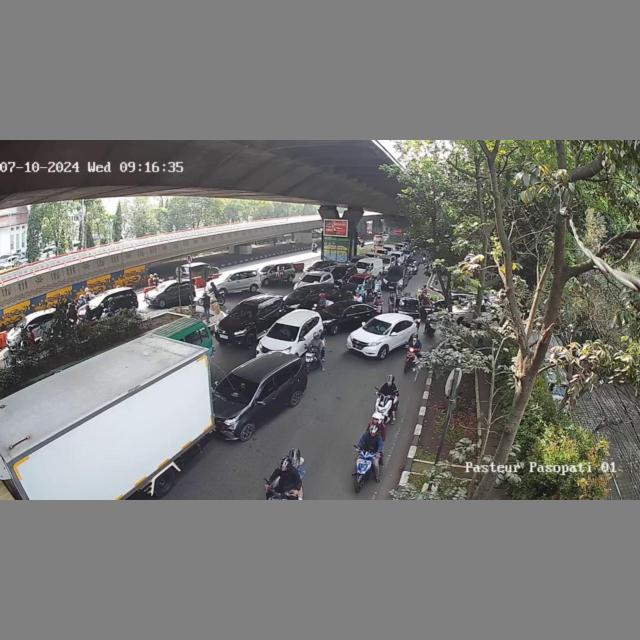windshield: (217, 372, 261, 403), (268, 320, 299, 342), (227, 303, 260, 319), (362, 316, 391, 333)
